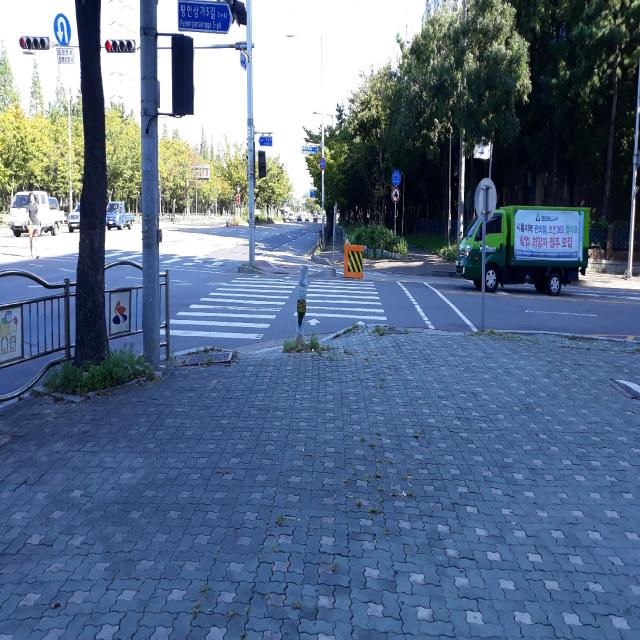횡단보도: (160, 274, 388, 342)
